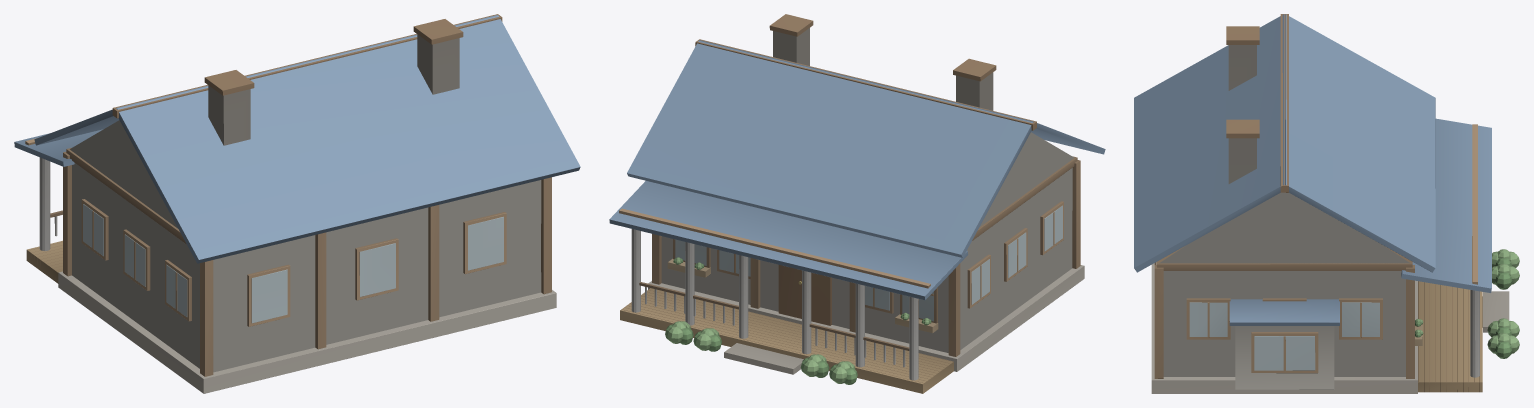
File: home_manor__blue_low.glb
The picture shows the model from 3 angles, left to right: view 1: azimuth 30°, elevation 25°; view 2: azimuth 150°, elevation 25°; view 3: azimuth 270°, elevation 25°; orthographic projection. The views are drawn at different scales.
Size of the model in its own units: 11.05 by 6.87 by 10.14.
